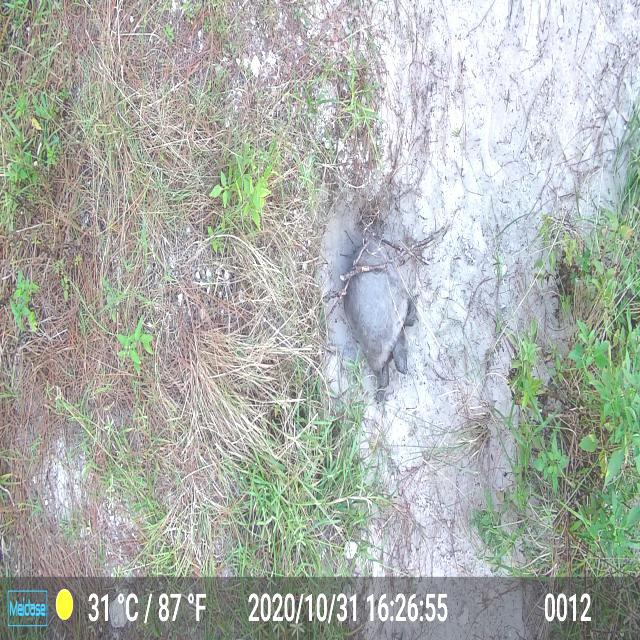tortoise: (346, 237, 425, 413)
